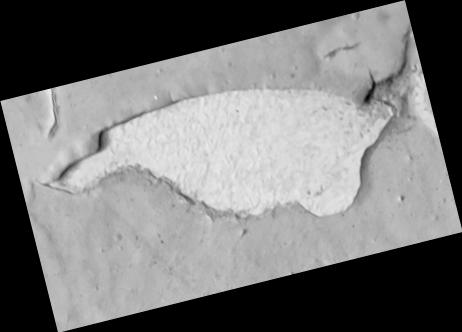paint-off: (1, 0, 462, 332)
